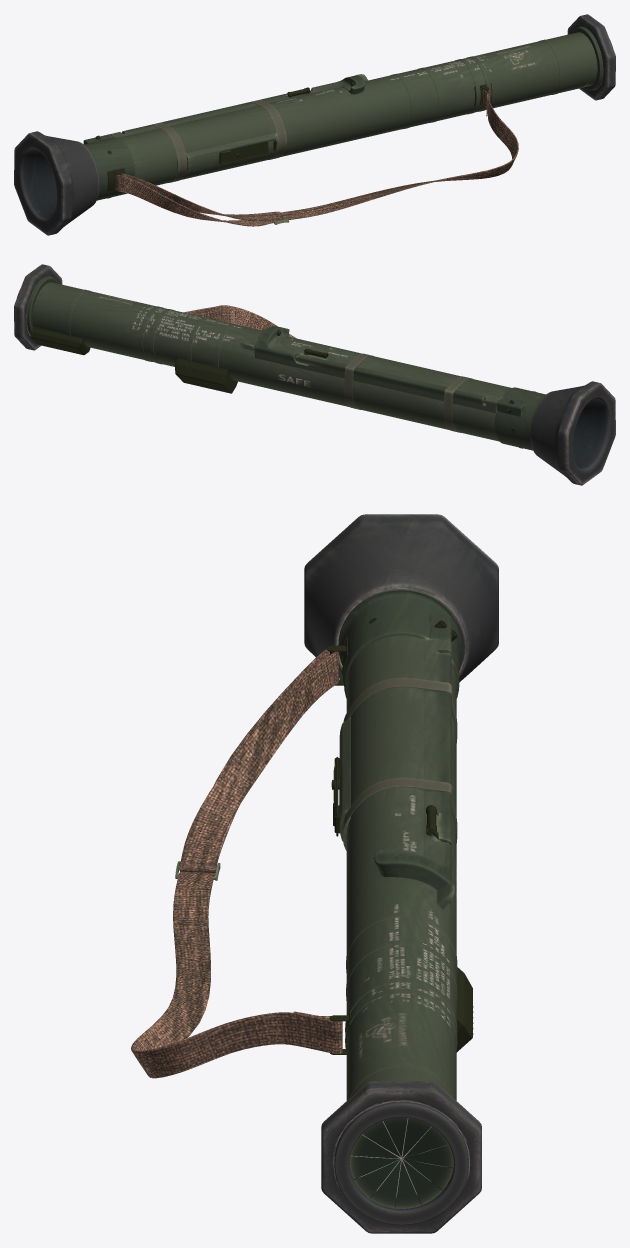
3 renders of one model, top to bottom at view 1: azimuth 30°, elevation 25°; view 2: azimuth 150°, elevation 25°; view 3: azimuth 270°, elevation 25°, orthographic. The views are drawn at different scales.
Visible parts, largest first — view 1: AM84_030_01, AM84_030_00; view 2: AM84_030_01, AM84_030_00; view 3: AM84_030_01, AM84_030_00.
Boxes of the visible parts, x1,y1,x2,y2 form: AM84_030_01: (14, 14, 615, 235); AM84_030_00: (95, 81, 492, 198); AM84_030_01: (14, 264, 615, 485); AM84_030_00: (30, 327, 536, 448); AM84_030_01: (131, 514, 498, 1233); AM84_030_00: (326, 618, 473, 1184).
Bounding box in the file's own units: 103 × 15.48 × 29.17.
